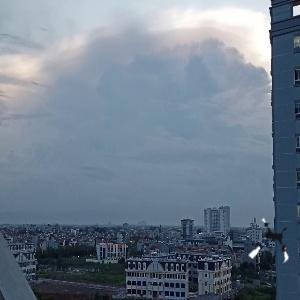drone: (244, 217, 298, 271)
